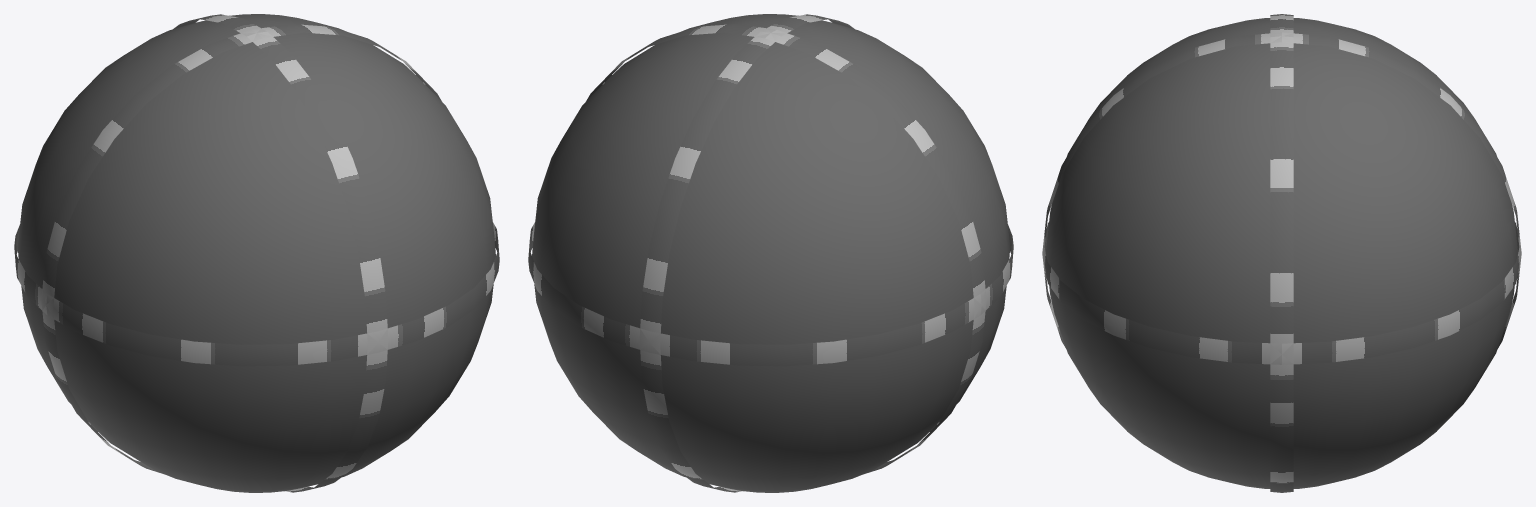
File: SphereEmitter.glb
3 renders of one model, left to right at view 1: azimuth 30°, elevation 25°; view 2: azimuth 150°, elevation 25°; view 3: azimuth 270°, elevation 25°, orthographic.
Parts seen in each view (by area): view 1: Sphere; view 2: Sphere; view 3: Sphere.
Part boxes in pixels (x1=…): Sphere: x1=14, y1=14, x2=499, y2=492; Sphere: x1=528, y1=14, x2=1013, y2=492; Sphere: x1=1042, y1=14, x2=1521, y2=492.
Bounding box in the file's own units: 1.01 × 1.01 × 1.01.
1 material, 1 textured.
